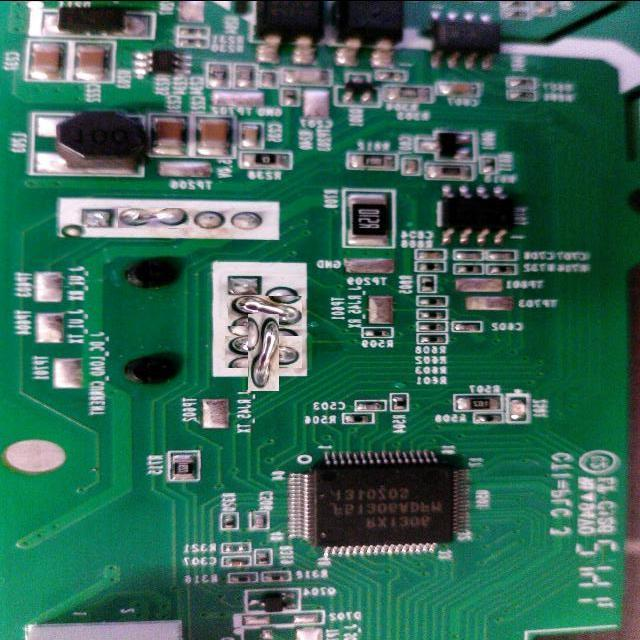Short_circuit: (236, 325, 291, 380), (228, 296, 302, 326), (118, 208, 188, 228)
